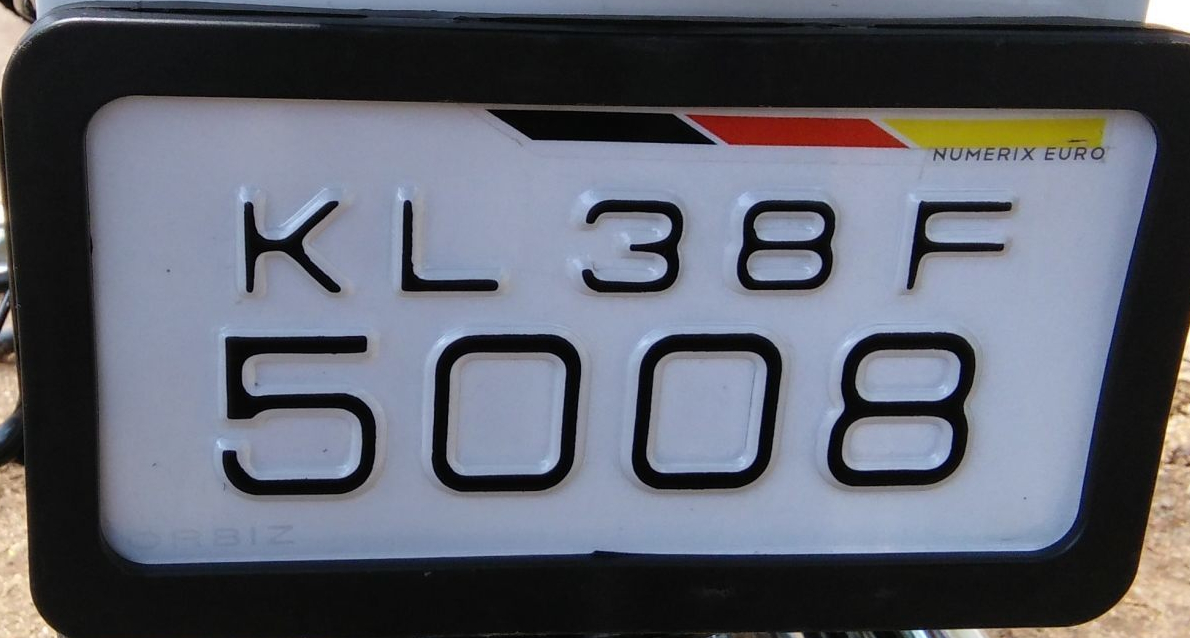0: (429, 331, 582, 496), (628, 332, 781, 492)
3: (578, 194, 688, 300)
5: (215, 332, 380, 497)
8: (820, 330, 977, 490), (735, 194, 841, 297)
F: (902, 194, 1013, 302)
K: (235, 193, 349, 300)
L: (398, 198, 502, 297)
